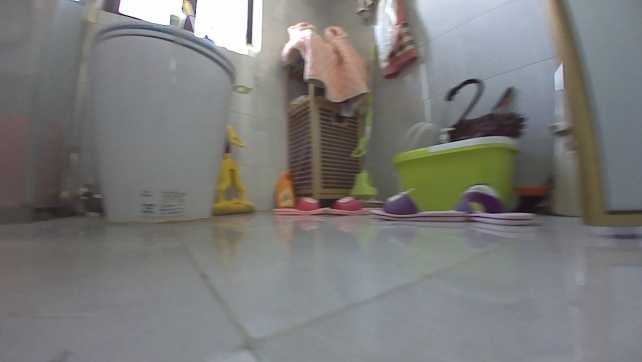slipper: (457, 184, 535, 227), (370, 187, 464, 222), (269, 197, 327, 216)
toilet: (88, 19, 240, 227)
